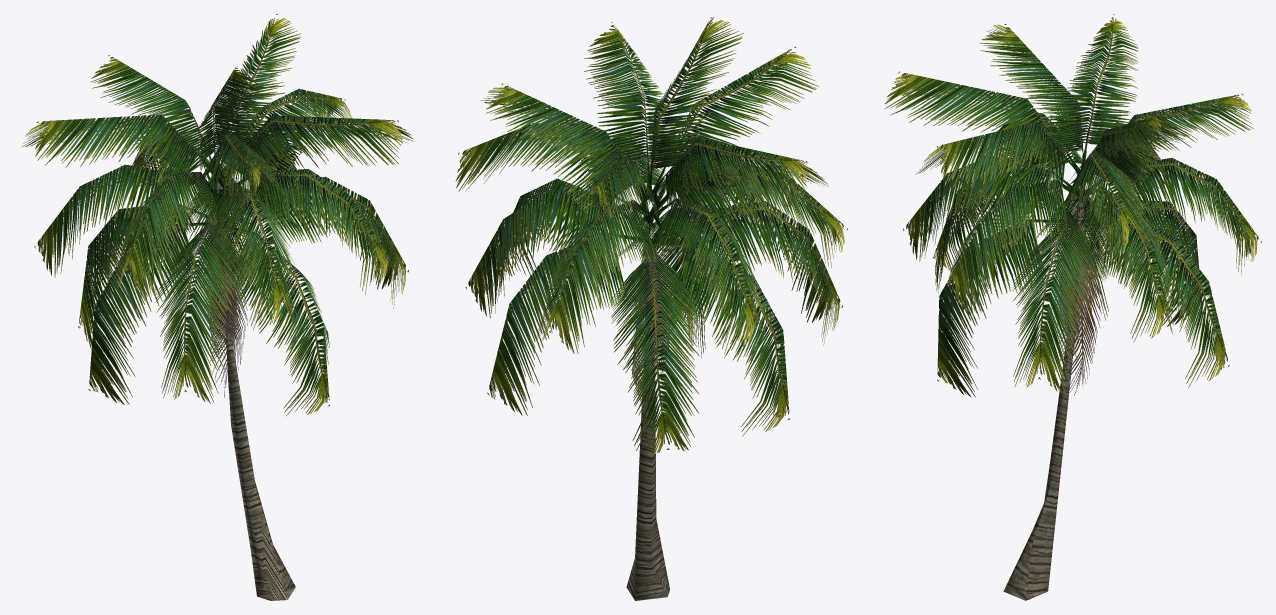
The model's file is palm_a.glb.
3 renders of one model, left to right at view 1: azimuth 30°, elevation 25°; view 2: azimuth 150°, elevation 25°; view 3: azimuth 270°, elevation 25°, orthographic. The views are drawn at different scales.
Visible parts, largest first — view 1: palm_a; view 2: palm_a; view 3: palm_a.
Boxes of the visible parts, <box> form: palm_a: <box>21,14,413,600</box>; palm_a: <box>455,17,847,600</box>; palm_a: <box>885,14,1261,600</box>.
Size of the model in its own units: 7 by 10.36 by 6.66.
3 materials, 3 textured.
